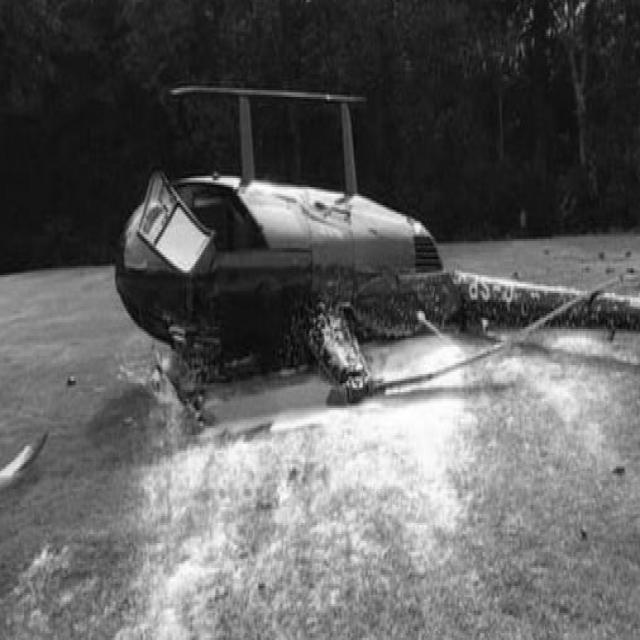helicopter: (65, 57, 640, 467)
